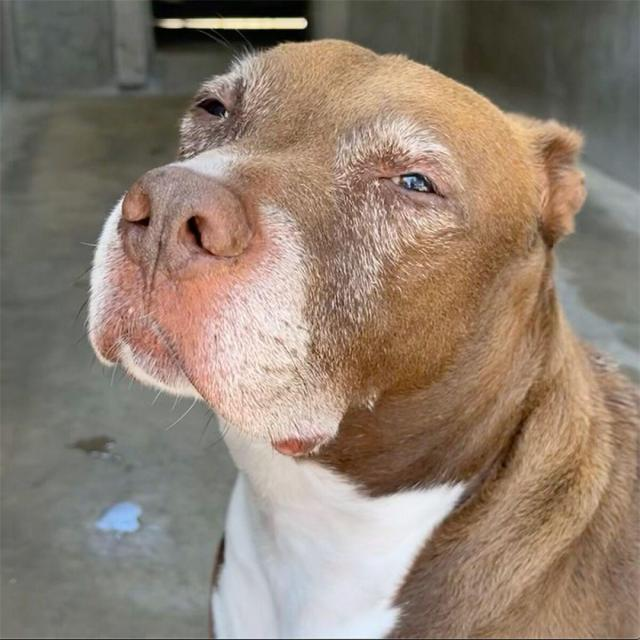Dog: (72, 12, 595, 500)
